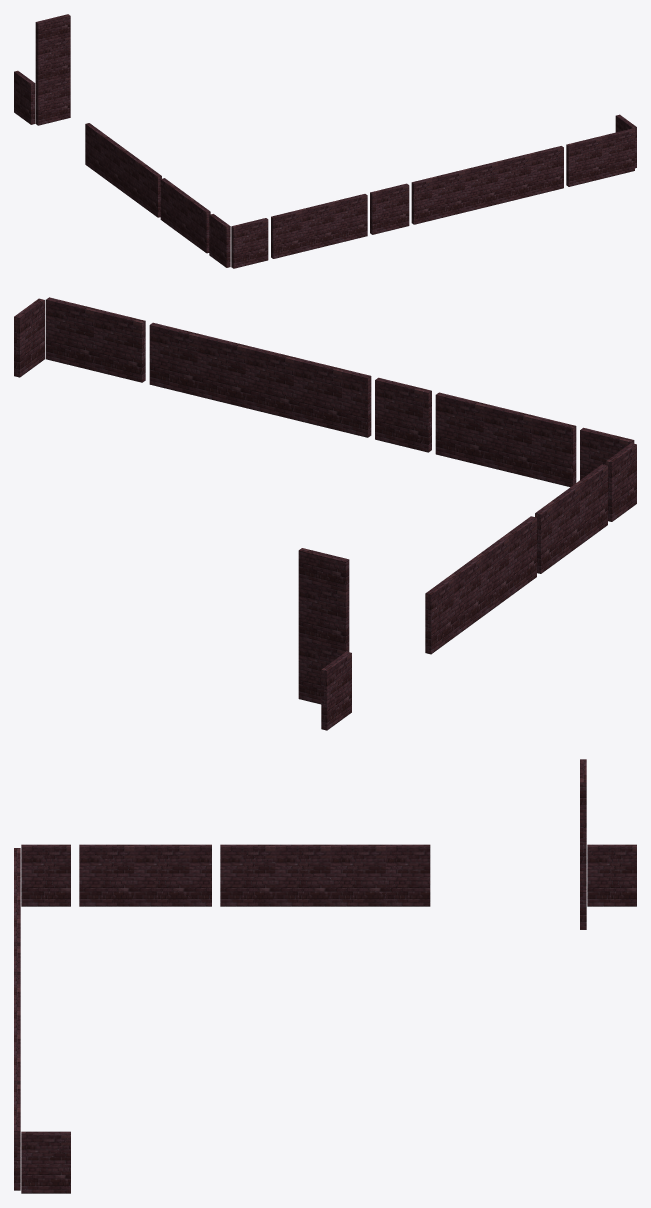
The picture shows the model from 3 angles, top to bottom: view 1: azimuth 30°, elevation 25°; view 2: azimuth 150°, elevation 25°; view 3: azimuth 270°, elevation 25°; orthographic projection. The views are drawn at different scales.
Parts seen in each view (by area): view 1: Basic Wall Wall-Ext_215Bwk [671214]001, Basic Wall Wall-Ext_215Bwk [671544]001, Basic Wall Wall-Ext_215Bwk [672609]001, Basic Wall Wall-Ext_215Bwk [672245]001, Basic Wall Wall-Ext_215Bwk [670970]001, Basic Wall Wall-Ext_215Bwk [672014]001, Basic Wall Wall-Ext_215Bwk [671330]001, Basic Wall Wall-Ext_215Bwk [671728]001, Basic Wall Wall-Ext_215Bwk [671832]001, Basic Wall Wall-Ext_215Bwk [672381]001; view 2: Basic Wall Wall-Ext_215Bwk [671214]001, Basic Wall Wall-Ext_215Bwk [671544]001, Basic Wall Wall-Ext_215Bwk [672245]001, Basic Wall Wall-Ext_215Bwk [672609]001, Basic Wall Wall-Ext_215Bwk [670970]001, Basic Wall Wall-Ext_215Bwk [672014]001, Basic Wall Wall-Ext_215Bwk [671330]001, Basic Wall Wall-Ext_215Bwk [672381]001, Basic Wall Wall-Ext_215Bwk [670830]001, Basic Wall Wall-Ext_215Bwk [671832]001, Basic Wall Wall-Ext_215Bwk [671728]001; view 3: Basic Wall Wall-Ext_215Bwk [672245]001, Basic Wall Wall-Ext_215Bwk [672014]001, Basic Wall Wall-Ext_215Bwk [670830]001, Basic Wall Wall-Ext_215Bwk [671832]001, Basic Wall Wall-Ext_215Bwk [672381]001, Basic Wall Wall-Ext_215Bwk [672609]001, Basic Wall Wall-Ext_215Bwk [671214]001, Basic Wall Wall-Ext_215Bwk [670970]001.
Boxes of the visible parts, <box> form: Basic Wall Wall-Ext_215Bwk [671214]001: <box>411,146,563,224</box>; Basic Wall Wall-Ext_215Bwk [671544]001: <box>271,194,367,258</box>; Basic Wall Wall-Ext_215Bwk [672609]001: <box>35,14,70,125</box>; Basic Wall Wall-Ext_215Bwk [672245]001: <box>85,123,161,217</box>; Basic Wall Wall-Ext_215Bwk [670970]001: <box>566,128,634,186</box>; Basic Wall Wall-Ext_215Bwk [672014]001: <box>160,178,210,253</box>; Basic Wall Wall-Ext_215Bwk [671330]001: <box>370,183,409,234</box>; Basic Wall Wall-Ext_215Bwk [671728]001: <box>231,218,268,268</box>; Basic Wall Wall-Ext_215Bwk [671832]001: <box>209,214,230,267</box>; Basic Wall Wall-Ext_215Bwk [672381]001: <box>14,70,35,124</box>; Basic Wall Wall-Ext_215Bwk [671214]001: <box>149,322,371,437</box>; Basic Wall Wall-Ext_215Bwk [671544]001: <box>435,392,576,487</box>; Basic Wall Wall-Ext_215Bwk [672245]001: <box>425,516,536,654</box>; Basic Wall Wall-Ext_215Bwk [672609]001: <box>298,548,349,704</box>; Basic Wall Wall-Ext_215Bwk [670970]001: <box>45,297,145,382</box>; Basic Wall Wall-Ext_215Bwk [672014]001: <box>535,464,607,573</box>; Basic Wall Wall-Ext_215Bwk [671330]001: <box>375,377,431,452</box>; Basic Wall Wall-Ext_215Bwk [672381]001: <box>321,651,351,730</box>; Basic Wall Wall-Ext_215Bwk [670830]001: <box>14,298,44,377</box>; Basic Wall Wall-Ext_215Bwk [671832]001: <box>606,443,636,521</box>; Basic Wall Wall-Ext_215Bwk [671728]001: <box>580,427,634,479</box>; Basic Wall Wall-Ext_215Bwk [672245]001: <box>220,844,430,906</box>; Basic Wall Wall-Ext_215Bwk [672014]001: <box>79,844,211,906</box>; Basic Wall Wall-Ext_215Bwk [670830]001: <box>21,1131,70,1193</box>; Basic Wall Wall-Ext_215Bwk [671832]001: <box>21,844,70,906</box>; Basic Wall Wall-Ext_215Bwk [672381]001: <box>587,844,636,906</box>; Basic Wall Wall-Ext_215Bwk [672609]001: <box>580,759,586,929</box>; Basic Wall Wall-Ext_215Bwk [671214]001: <box>14,975,20,1084</box>; Basic Wall Wall-Ext_215Bwk [670970]001: <box>14,1084,20,1190</box>.
Size of the model in its own units: 12.63 by 3 by 11.47.
Materials: 1 (1 with a texture image).
